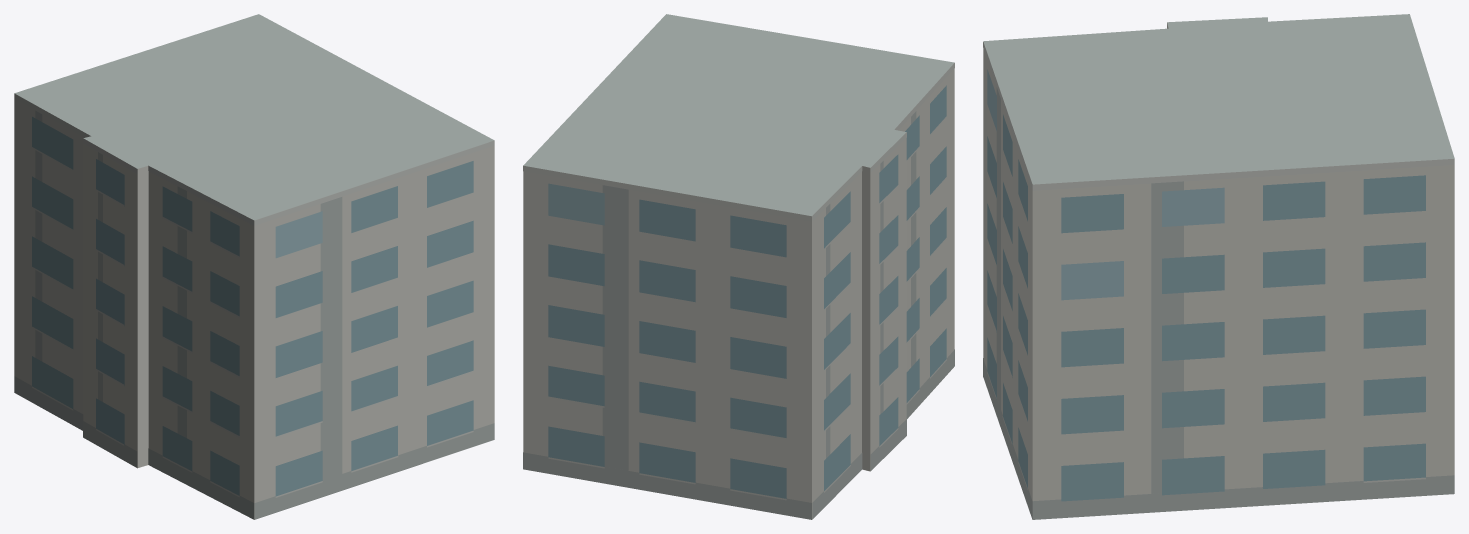
Rendered from survey-upis-32575159.glb.
3 views of the same model, side by side, from view 1: azimuth 30°, elevation 25°; view 2: azimuth 150°, elevation 25°; view 3: azimuth 270°, elevation 25° (orthographic). The views are drawn at different scales.
Visible parts, largest first — view 1: survey-upis-32575159.tmp; view 2: survey-upis-32575159.tmp; view 3: survey-upis-32575159.tmp.
Part boxes in pixels (box(x1,y1,x2,y2)): survey-upis-32575159.tmp: box(14, 14, 494, 519); survey-upis-32575159.tmp: box(523, 14, 954, 519); survey-upis-32575159.tmp: box(983, 14, 1454, 519).
Bounding box in the file's own units: 14.67 × 13.44 × 17.14.
